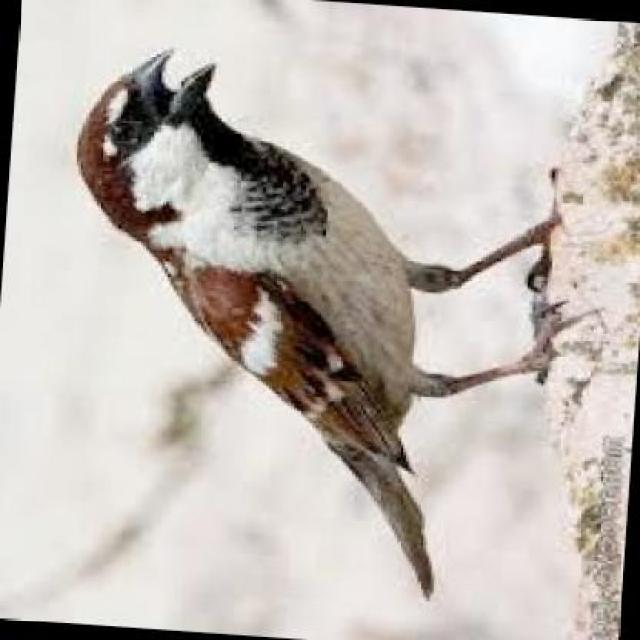Bird: (72, 41, 566, 607)
